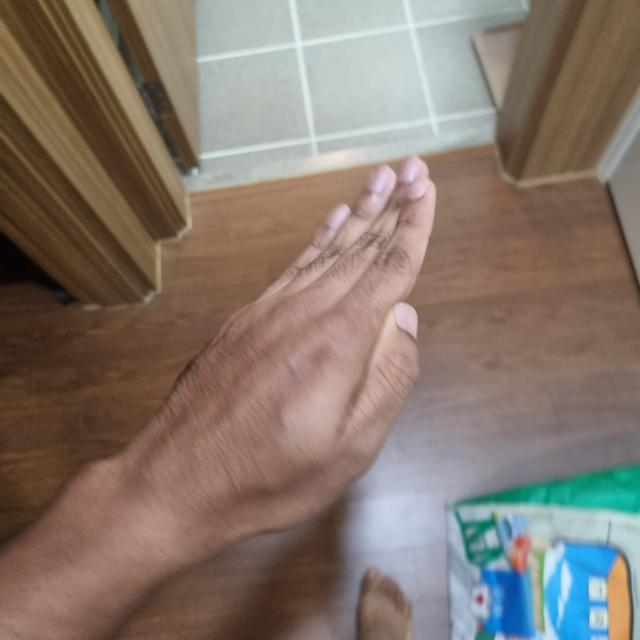Paper: (134, 161, 435, 536)
